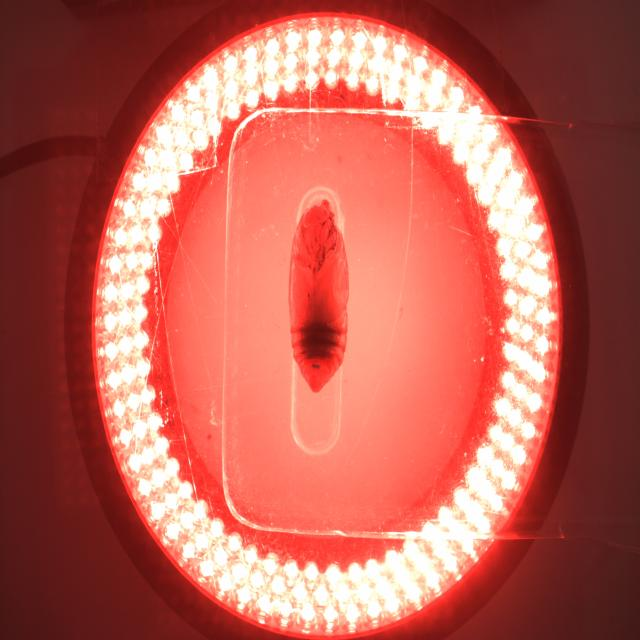male: (311, 364, 322, 371)
